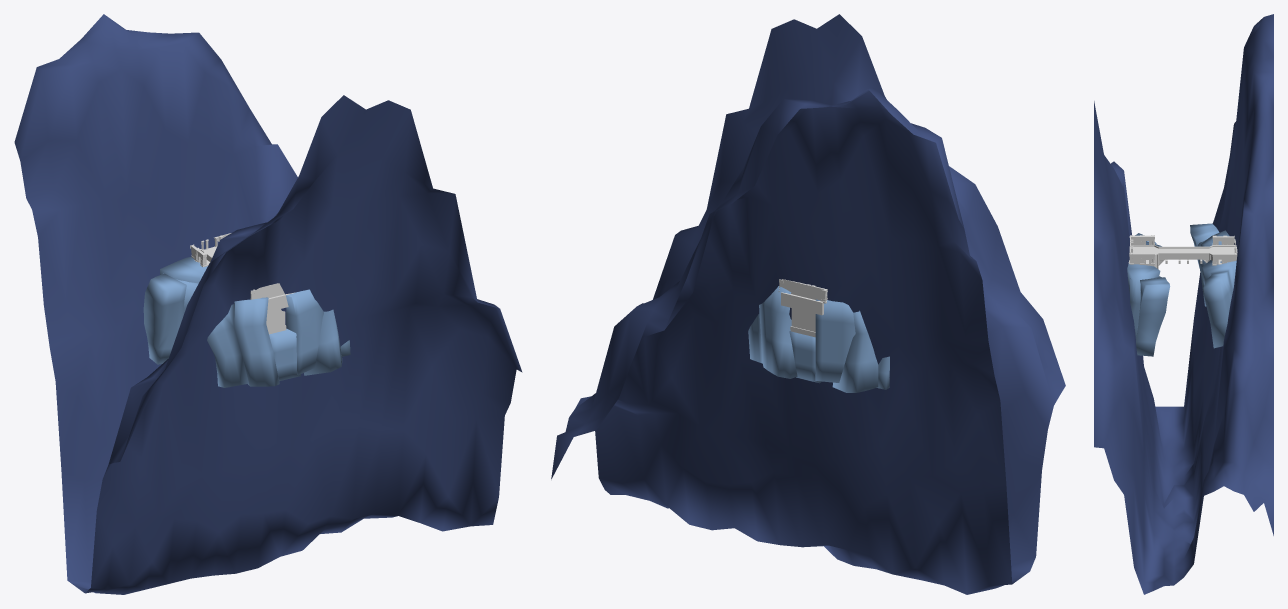
Rendered from MAIN.glb.
The picture shows the model from 3 angles, left to right: view 1: azimuth 30°, elevation 25°; view 2: azimuth 150°, elevation 25°; view 3: azimuth 270°, elevation 25°; orthographic projection. The views are drawn at different scales.
Parts seen in each view (by area): view 1: Mountains, Wall 2, Wall 1, Base 1; view 2: Mountains, Wall 1, Base 1; view 3: Mountains, Wall 2, Wall 1, Abyss.001, Base 1.
Part boxes in pixels (x1,y1,x2,y2): Mountains: (14, 14, 522, 594); Wall 2: (207, 289, 350, 387); Wall 1: (143, 257, 207, 364); Base 1: (190, 233, 294, 311); Mountains: (551, 14, 1065, 594); Wall 1: (748, 286, 889, 392); Base 1: (778, 279, 827, 315); Mountains: (1094, 14, 1273, 594); Wall 2: (1127, 233, 1170, 356); Wall 1: (1190, 223, 1236, 348); Abyss.001: (1133, 245, 1234, 269); Base 1: (1128, 235, 1237, 266).
Bounding box in the file's own units: 1288 × 1625 × 587.
